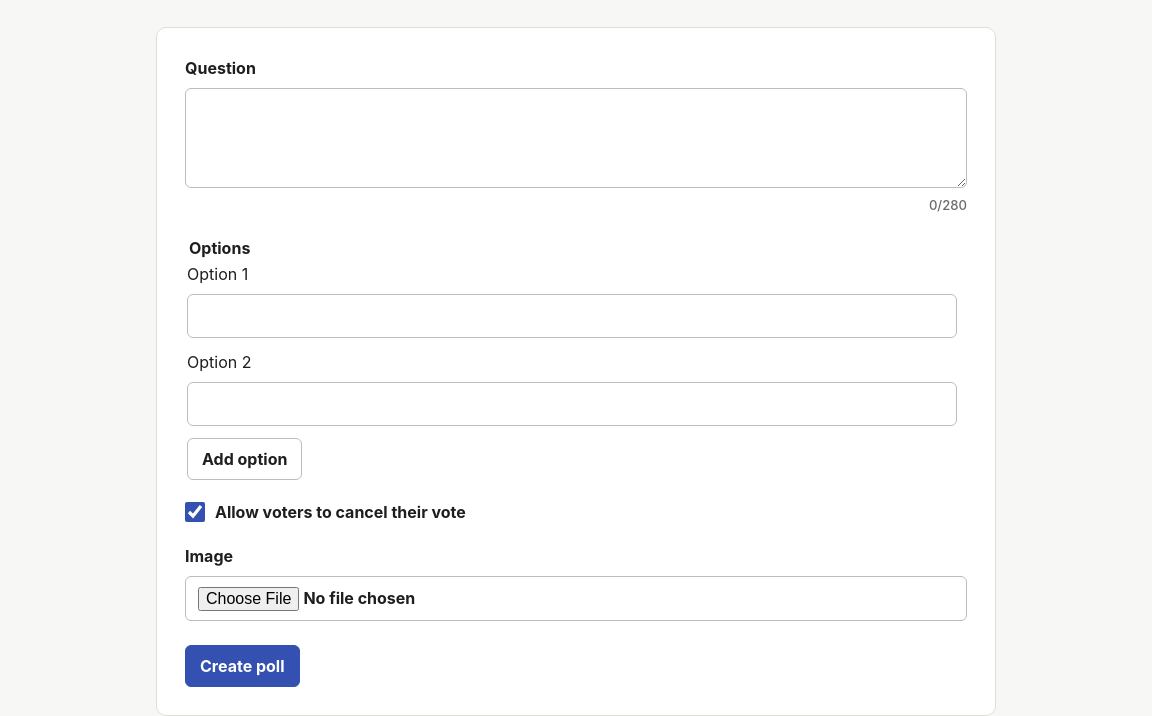
Scenario: shows validation errors only after the first submit attempt
(page scrolled)
Click the button "Create poll" at (242, 666), box left=185, top=645, right=300, bottom=687
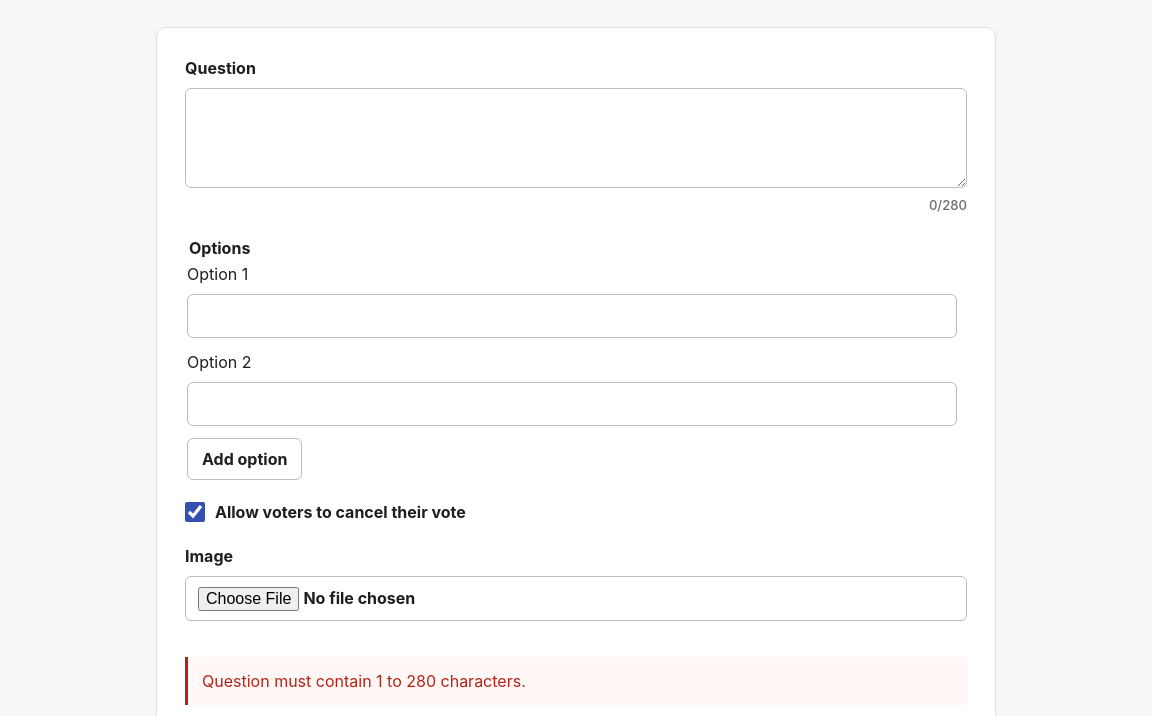
Result: the message reads "Question must contain 1 to 280 characters." at left=202, top=671, right=526, bottom=691
